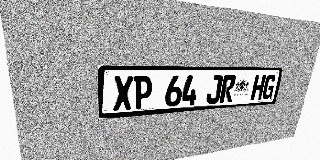4: (181, 75, 199, 106)
6: (165, 75, 183, 107)
G: (261, 74, 277, 100)
H: (250, 75, 266, 100)
J: (206, 75, 223, 104)
P: (133, 76, 153, 109)
R: (219, 75, 236, 103)
X: (113, 76, 133, 111)
